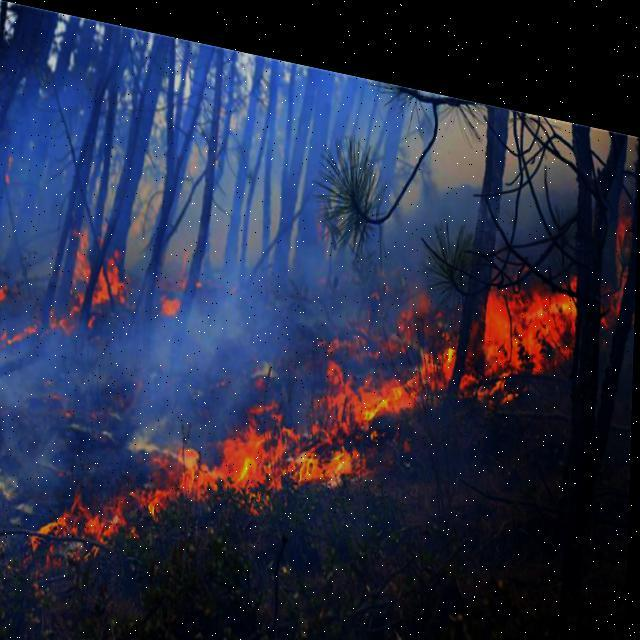Fire: (0, 155, 634, 639)
